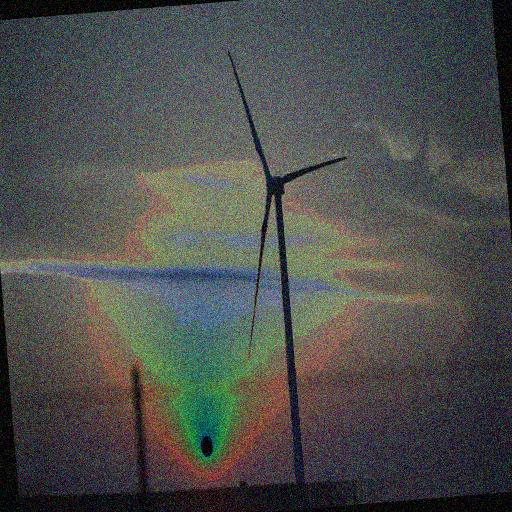wind turbine: (228, 50, 350, 481)
